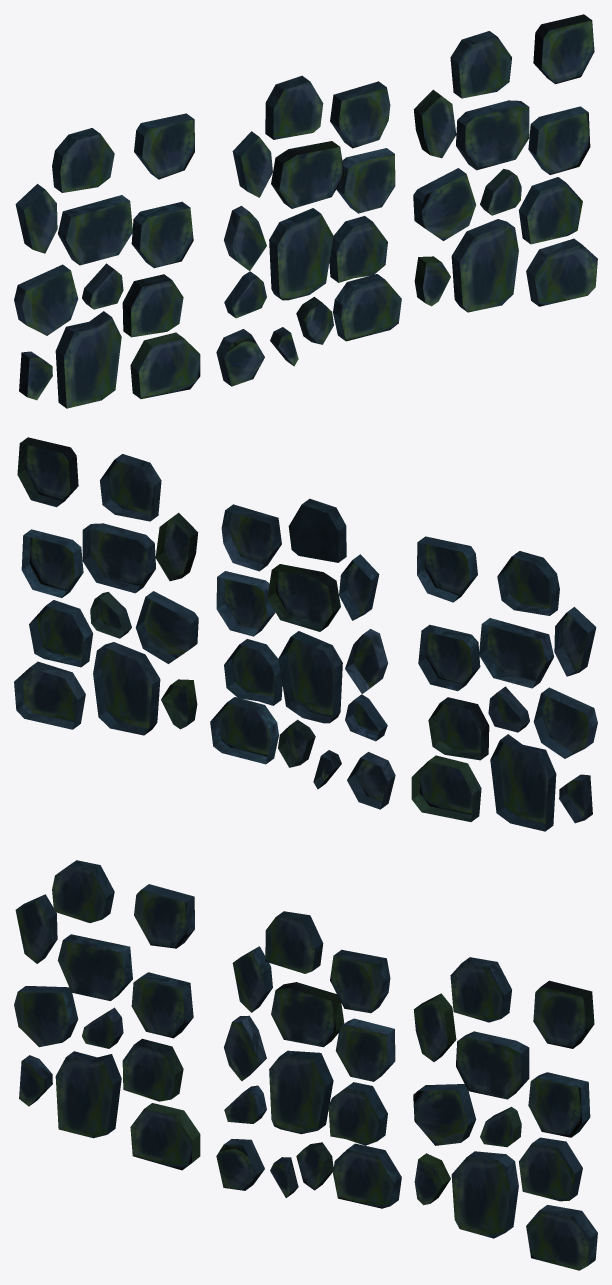
The model's file is rock2.fbx.
3 renders of one model, top to bottom at view 1: azimuth 30°, elevation 25°; view 2: azimuth 150°, elevation 25°; view 3: azimuth 330°, elevation 25°, orthographic.
Parts seen in each view (by area): view 1: Plane.037, Plane.011, Plane.019, Plane.035, Plane.008, Plane.021, Plane.031, Plane.013, Plane.025, Plane.029, Plane.033, Plane.030 (+23 smaller); view 2: Plane.037, Plane.011, Plane.019, Plane.035, Plane.008, Plane.021, Plane.031, Plane.013, Plane.025, Plane.029, Plane.033, Plane.030 (+23 smaller); view 3: Plane.037, Plane.011, Plane.019, Plane.035, Plane.008, Plane.021, Plane.031, Plane.013, Plane.025, Plane.029, Plane.033, Plane.030 (+23 smaller).
Part boxes in pixels (left/top/right/bottom): Plane.037: left=451, top=219, right=518, bottom=312; Plane.011: left=55, top=311, right=121, bottom=408; Plane.019: left=269, top=208, right=333, bottom=300; Plane.035: left=456, top=100, right=529, bottom=170; Plane.008: left=58, top=195, right=132, bottom=265; Plane.021: left=271, top=141, right=344, bottom=208; Plane.031: left=526, top=238, right=597, bottom=306; Plane.013: left=130, top=332, right=200, bottom=398; Plane.025: left=333, top=274, right=401, bottom=341; Plane.029: left=533, top=14, right=594, bottom=84; Plane.033: left=528, top=106, right=590, bottom=174; Plane.030: left=450, top=31, right=511, bottom=98; Plane.037: left=93, top=642, right=160, bottom=735; Plane.011: left=490, top=734, right=556, bottom=831; Plane.019: left=278, top=631, right=342, bottom=723; Plane.035: left=82, top=523, right=155, bottom=593; Plane.008: left=479, top=618, right=553, bottom=688; Plane.021: left=267, top=564, right=340, bottom=631; Plane.031: left=14, top=661, right=85, bottom=729; Plane.013: left=411, top=755, right=481, bottom=821; Plane.025: left=210, top=697, right=278, bottom=764; Plane.029: left=17, top=437, right=78, bottom=507; Plane.033: left=21, top=529, right=83, bottom=597; Plane.030: left=100, top=454, right=161, bottom=521; Plane.037: left=451, top=1151, right=518, bottom=1238; Plane.011: left=55, top=1051, right=121, bottom=1138; Plane.019: left=269, top=1050, right=333, bottom=1134; Plane.035: left=456, top=1031, right=529, bottom=1099; Plane.008: left=57, top=934, right=132, bottom=1000; Plane.021: left=271, top=982, right=344, bottom=1047; Plane.031: left=526, top=1205, right=597, bottom=1270; Plane.013: left=130, top=1103, right=200, bottom=1170; Plane.025: left=333, top=1143, right=401, bottom=1208; Plane.029: left=533, top=980, right=594, bottom=1048; Plane.033: left=528, top=1072, right=590, bottom=1137; Plane.030: left=450, top=957, right=511, bottom=1022.
Bounding box in the file's own units: 612 × 290 × 15.05.
1 material, 1 textured.
